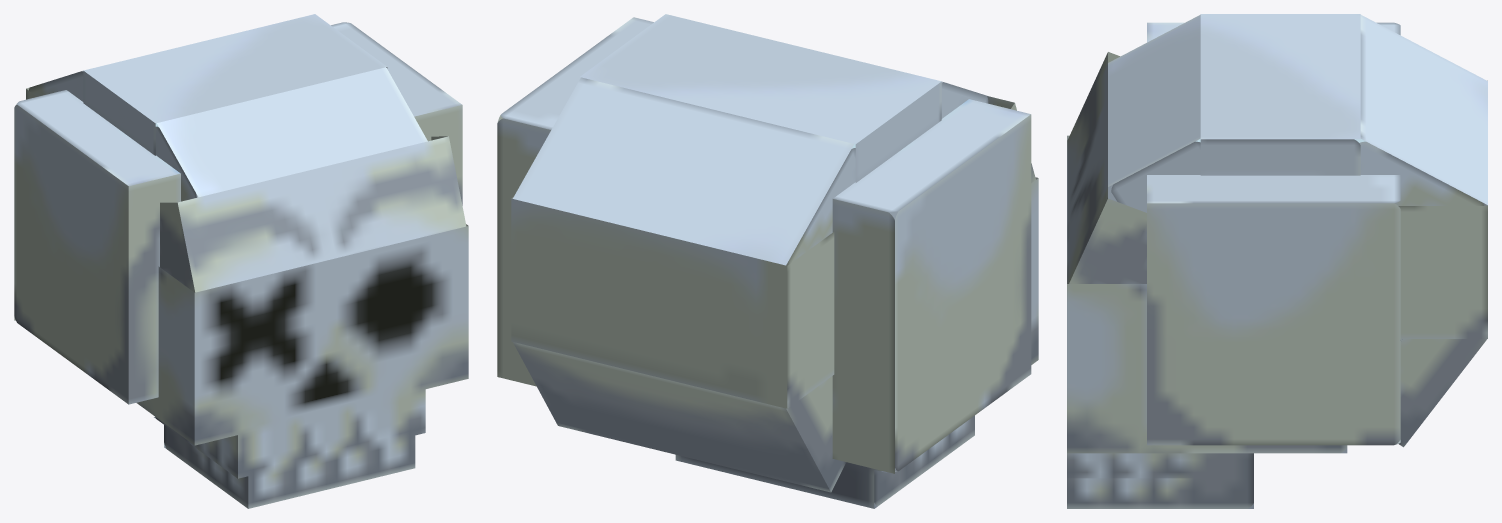
File: Avatar001_v1.obj
3 renders of one model, left to right at view 1: azimuth 30°, elevation 25°; view 2: azimuth 150°, elevation 25°; view 3: azimuth 270°, elevation 25°, orthographic. The views are drawn at different scales.
Visible parts, largest first — view 1: cube, bone; view 2: cube, bone; view 3: cube, bone.
Boxes of the visible parts, x1,y1,x2,y2 form: cube: (14,22,468,508); bone: (83,14,387,155); cube: (497,17,1038,508); bone: (580,14,941,182); cube: (1067,14,1487,508); bone: (1200,14,1360,175).
Bounding box in the file's own units: 2 × 2 × 1.97.
1 material, 1 textured.
